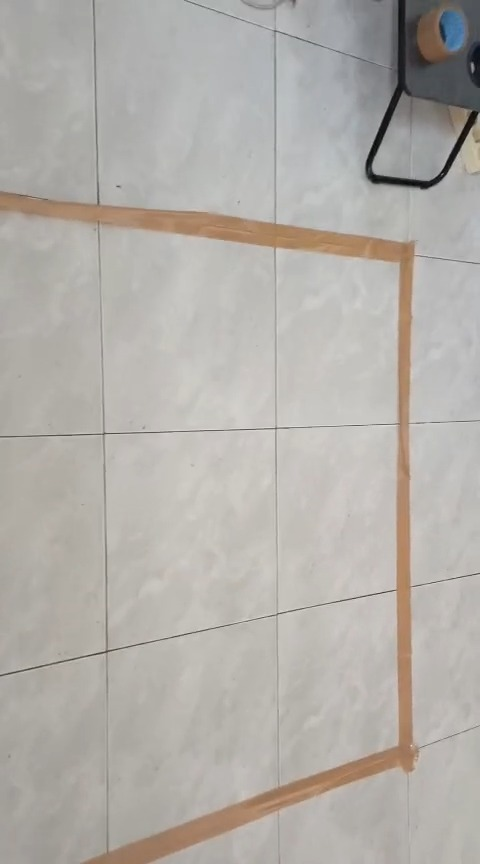floor marking: (0, 192, 416, 863)
